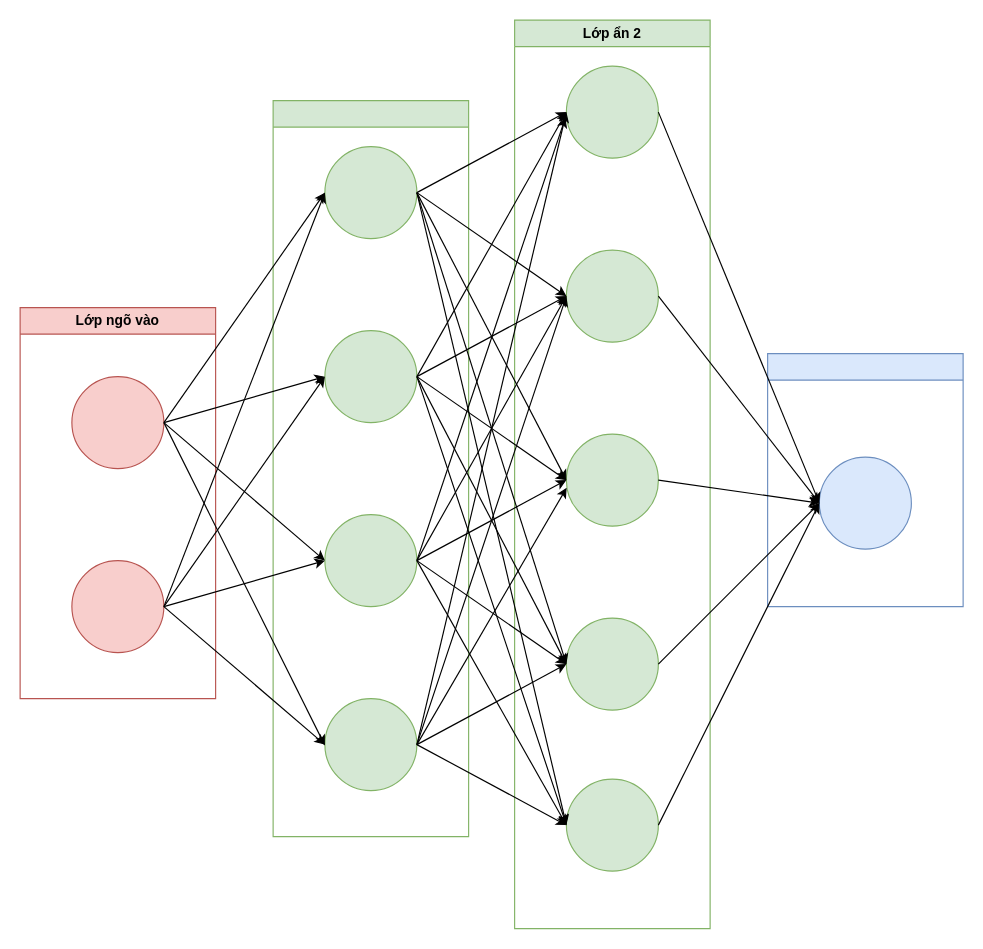
This 983x949 diagram has some shape labels left out. Each missing label, with the centre of its shape:
"Lớp ngõ ra" belongs at [864,479].
"Lớp ẩn 1" belongs at [370,468].
